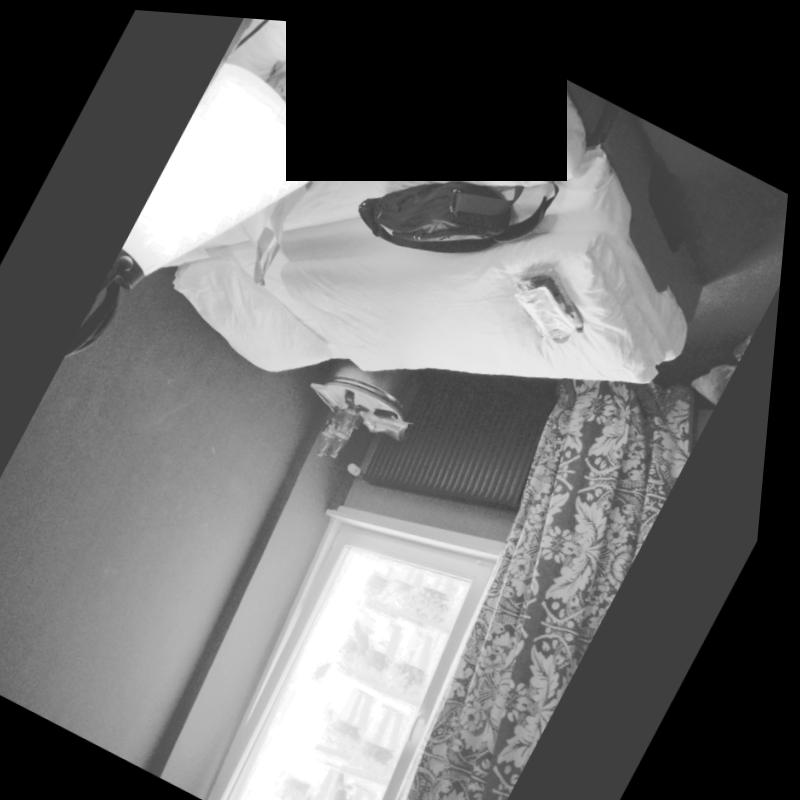pillow: (153, 238, 355, 387)
